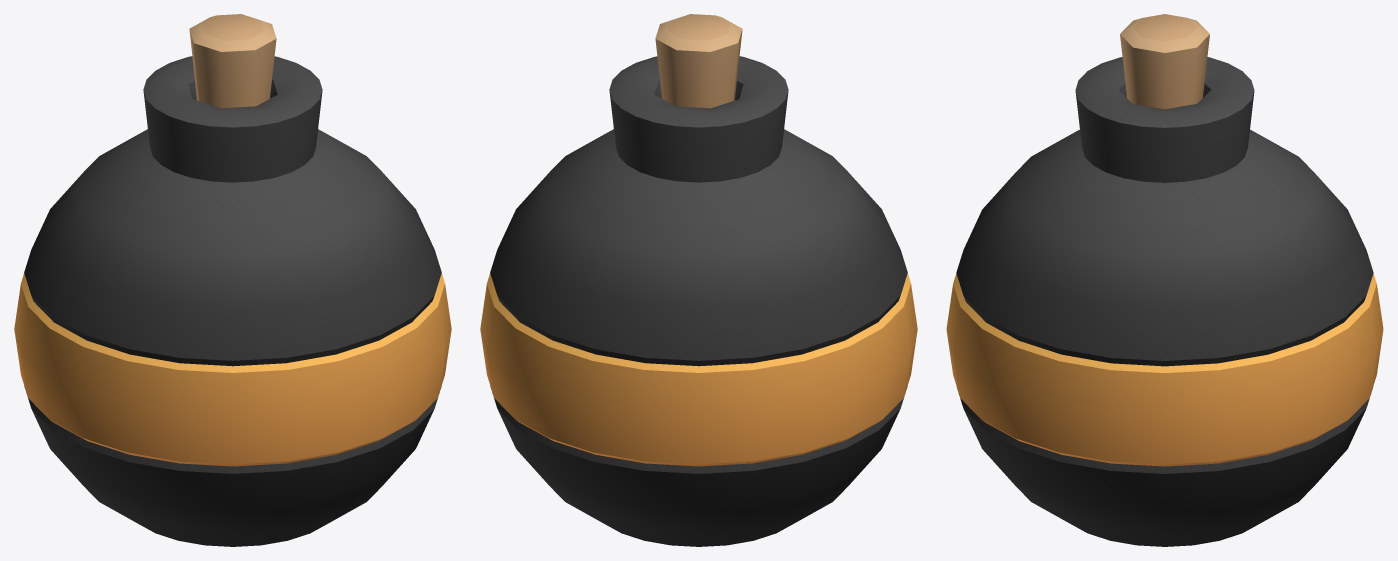
File: bomb_B_yellow.glb
3 views of the same model, side by side, from view 1: azimuth 30°, elevation 25°; view 2: azimuth 150°, elevation 25°; view 3: azimuth 270°, elevation 25° (orthographic).
Visible parts, largest first — view 1: bomb_B_yellow; view 2: bomb_B_yellow; view 3: bomb_B_yellow.
Part boxes in pixels (<box>): bomb_B_yellow: <box>14,14,451,546</box>; bomb_B_yellow: <box>480,14,917,546</box>; bomb_B_yellow: <box>946,14,1383,546</box>.
Bounding box in the file's own units: 0.8 × 1.01 × 0.8.
1 material, 1 textured.
